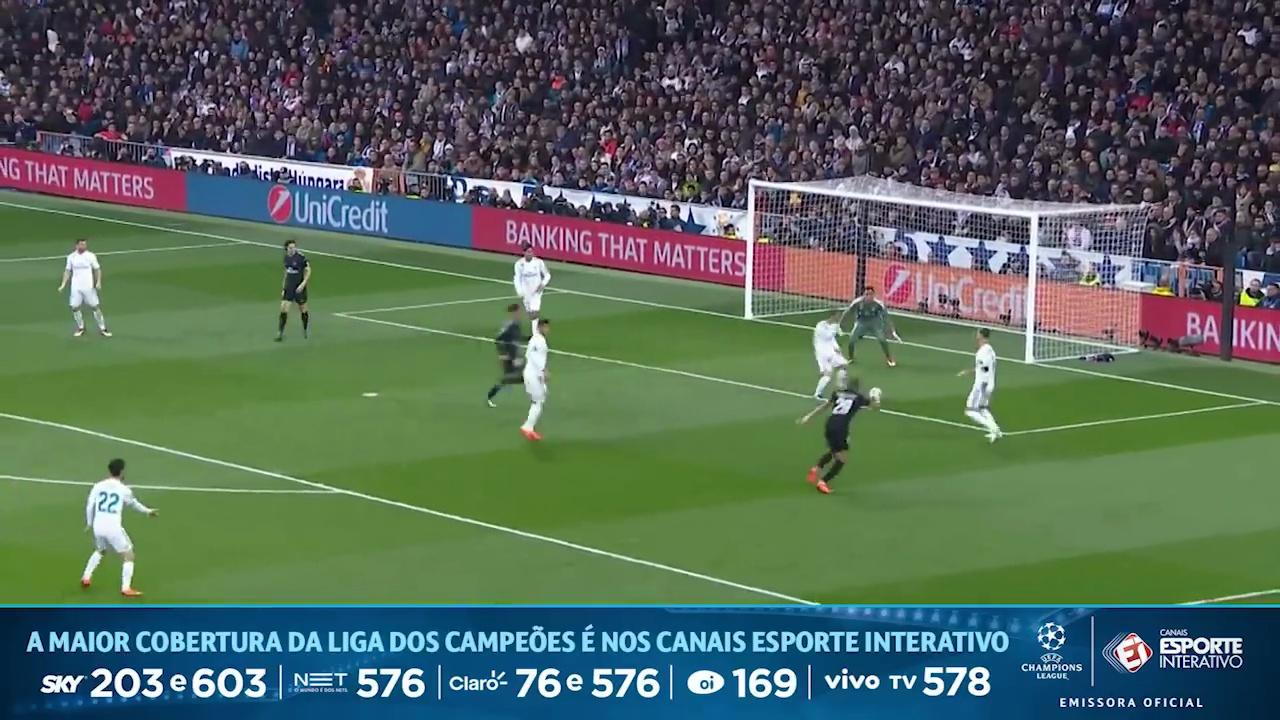football: (868, 387, 881, 401)
player: (81, 459, 157, 595), (798, 379, 879, 493), (58, 239, 111, 336), (959, 328, 1002, 442), (840, 288, 899, 366), (487, 303, 523, 406), (276, 240, 310, 341), (520, 318, 548, 439), (813, 311, 847, 399), (513, 244, 550, 320)
